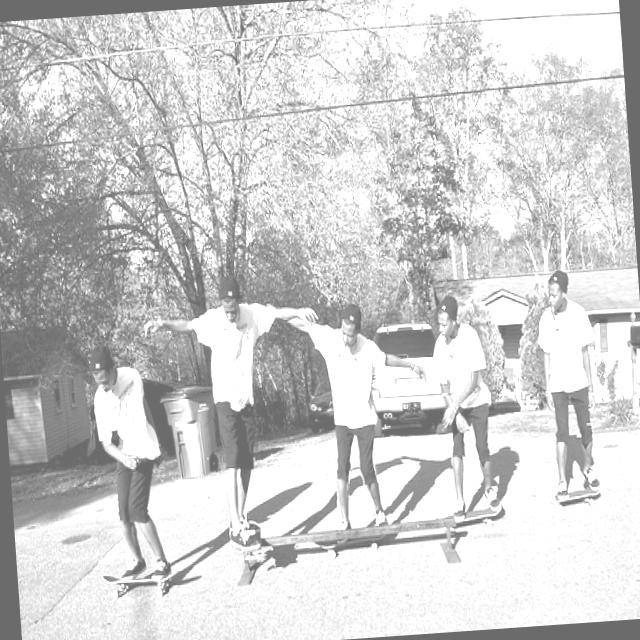Vehicle: (366, 319, 449, 436), (306, 380, 336, 436)
